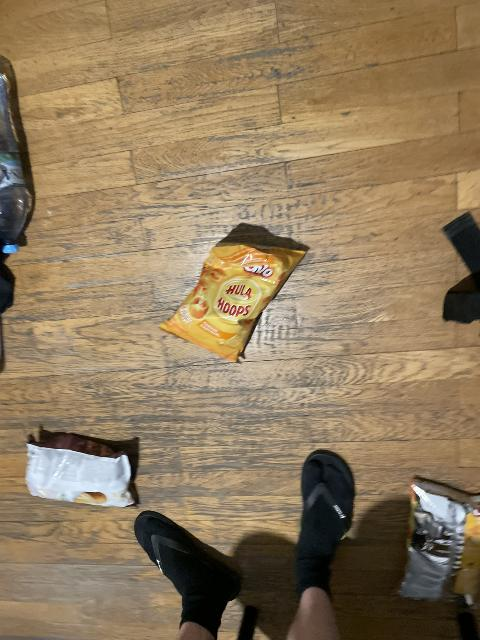Chio Cascaval 125g: (402, 480, 480, 607)
Chio Hula Hoops Cheese 70g: (158, 230, 313, 363)
Lays Beef Grilled Ribs 125g: (23, 427, 140, 505)
